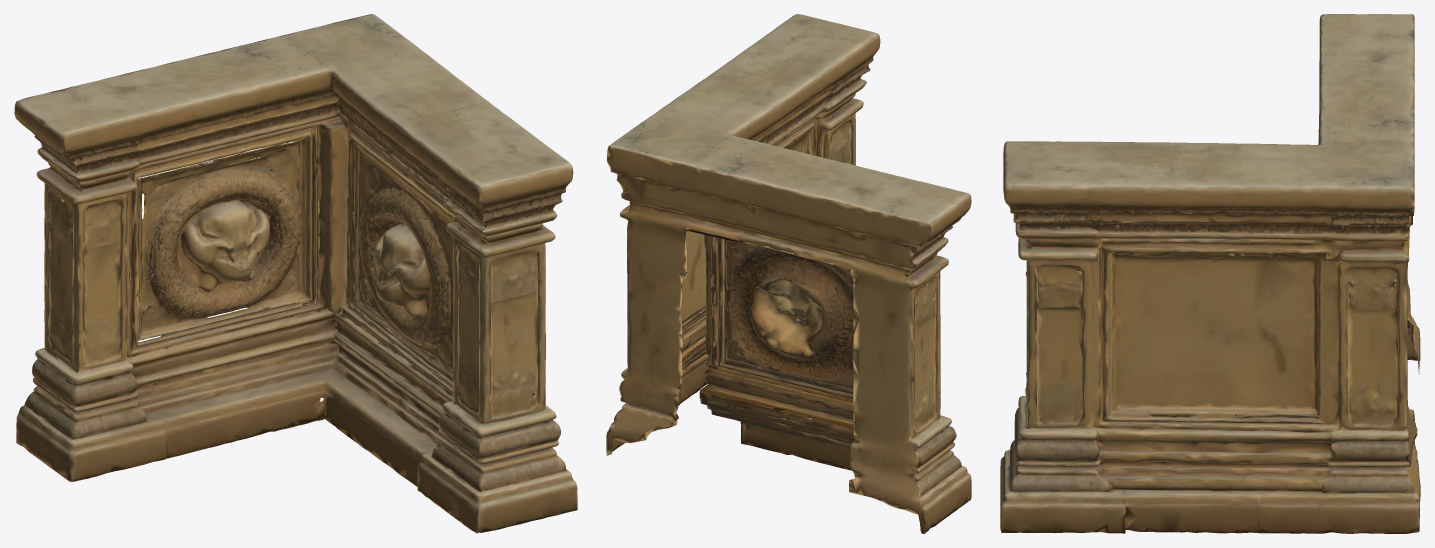
File: corner-wall-section-sandstone-dragon-line-art-optimized.glb
3 views of the same model, side by side, from view 1: azimuth 30°, elevation 25°; view 2: azimuth 150°, elevation 25°; view 3: azimuth 270°, elevation 25° (orthographic). The views are drawn at different scales.
Visible parts, largest first — view 1: world; view 2: world; view 3: world.
Part boxes in pixels (<box>): world: <box>14,14,577,533</box>; world: <box>606,14,971,533</box>; world: <box>1000,14,1420,533</box>.
Size of the model in its own units: 2.98 by 2.73 by 3.
Materials: 1 (1 with a texture image).
